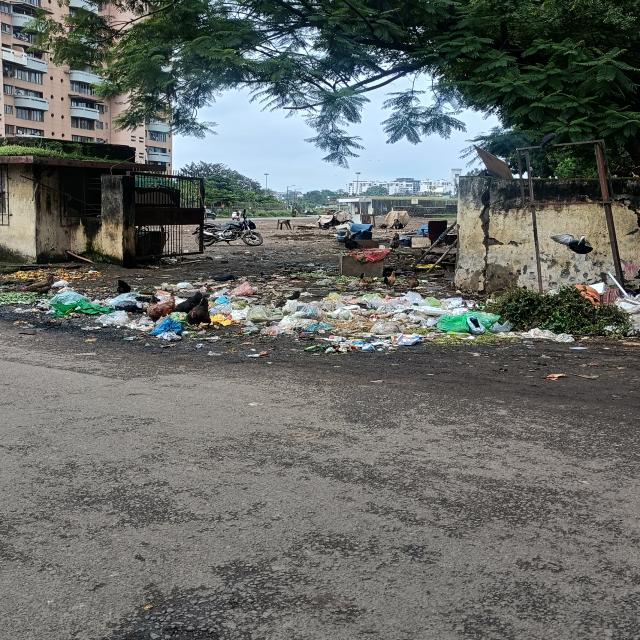garbage: (271, 290, 640, 346), (55, 283, 268, 330), (320, 253, 410, 288)
